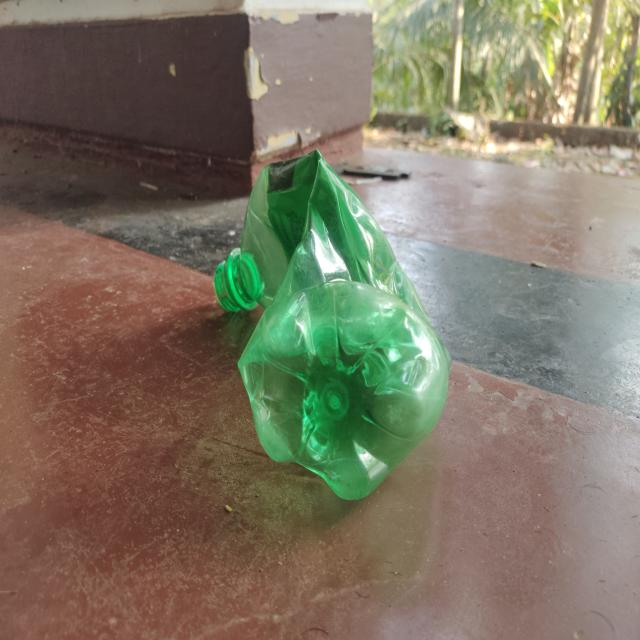plastic: (214, 148, 453, 506)
